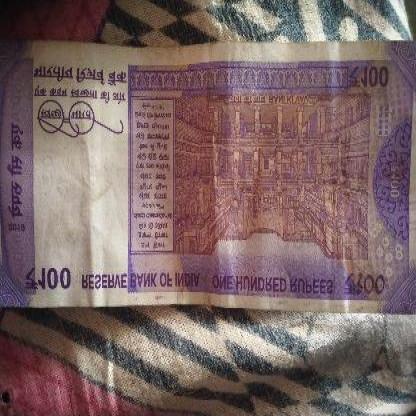New100Back: (0, 46, 415, 310)
